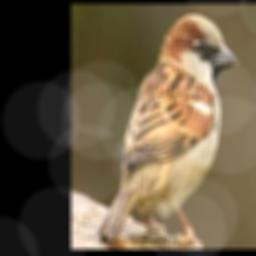Sparrow: (96, 13, 239, 245)
